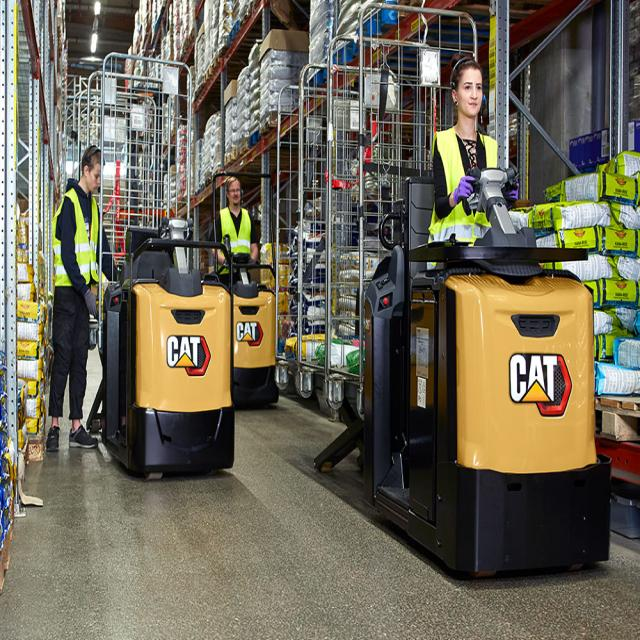Person: (46, 144, 116, 452), (426, 59, 496, 245), (210, 178, 260, 276)
